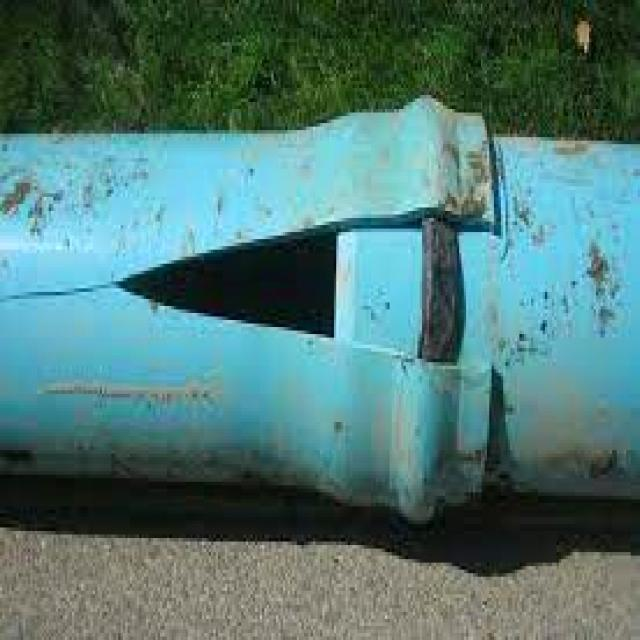crack: (0, 208, 497, 365)
